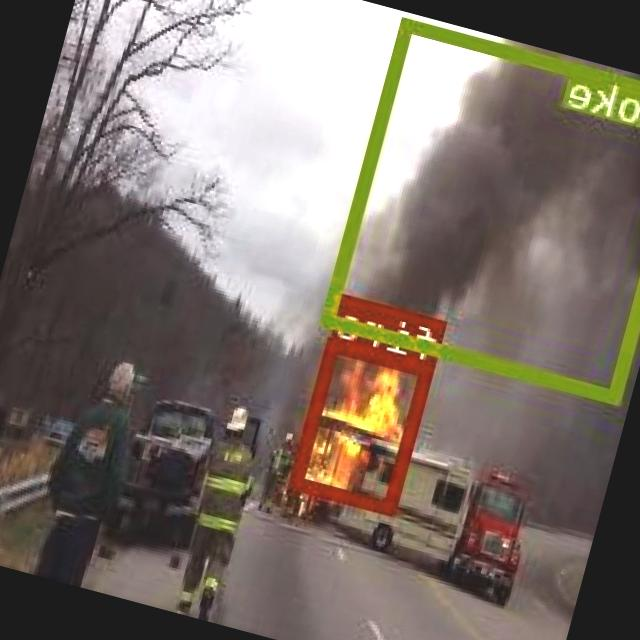fire: (290, 335, 436, 514)
smoke: (323, 14, 640, 403)
